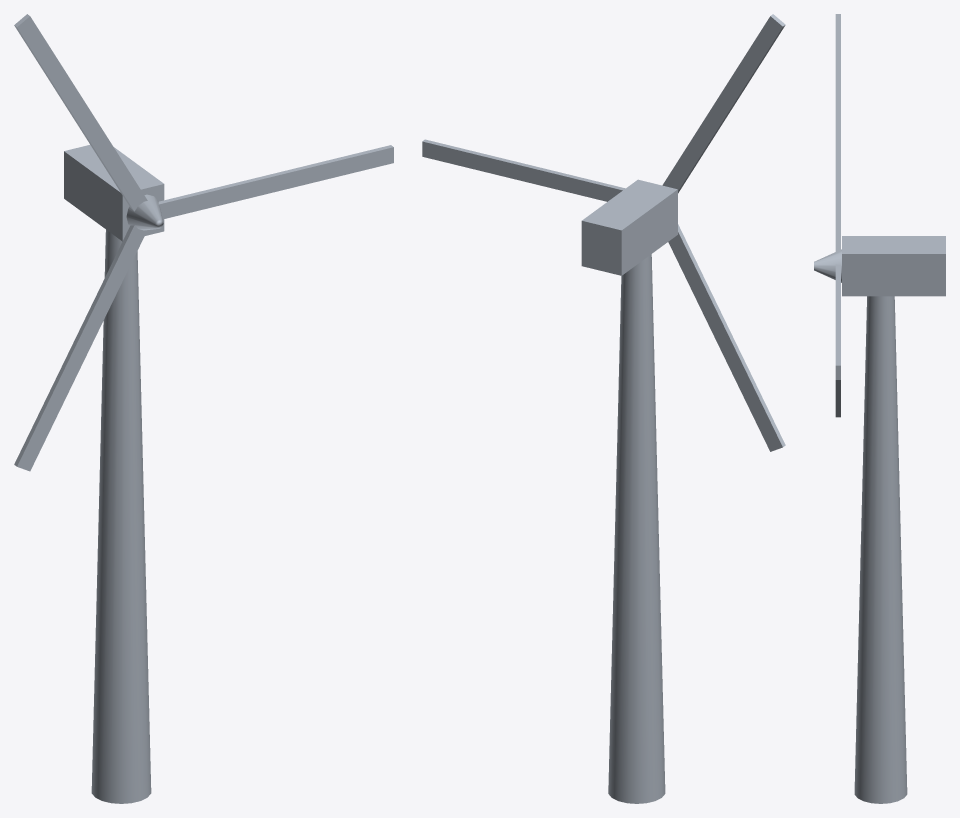
The model's file is prop_wind_turbine.glb.
3 renders of one model, left to right at view 1: azimuth 30°, elevation 25°; view 2: azimuth 150°, elevation 25°; view 3: azimuth 270°, elevation 25°, orthographic. The views are drawn at different scales.
Visible parts, largest first — view 1: primary_color, rotor_0; view 2: primary_color, rotor_0; view 3: primary_color, rotor_0.
Boxes of the visible parts, x1=… form: primary_color: x1=64, y1=145, x2=164, y2=803; rotor_0: x1=14, y1=14, x2=393, y2=471; primary_color: x1=581, y1=179, x2=677, y2=803; rotor_0: x1=422, y1=14, x2=785, y2=451; primary_color: x1=842, y1=236, x2=945, y2=803; rotor_0: x1=814, y1=14, x2=841, y2=417.
Bounding box in the file's own units: 10.38 × 21.64 × 3.55.
Materials: 1 (1 with a texture image).
